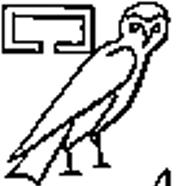Owl: (9, 5, 172, 183)
